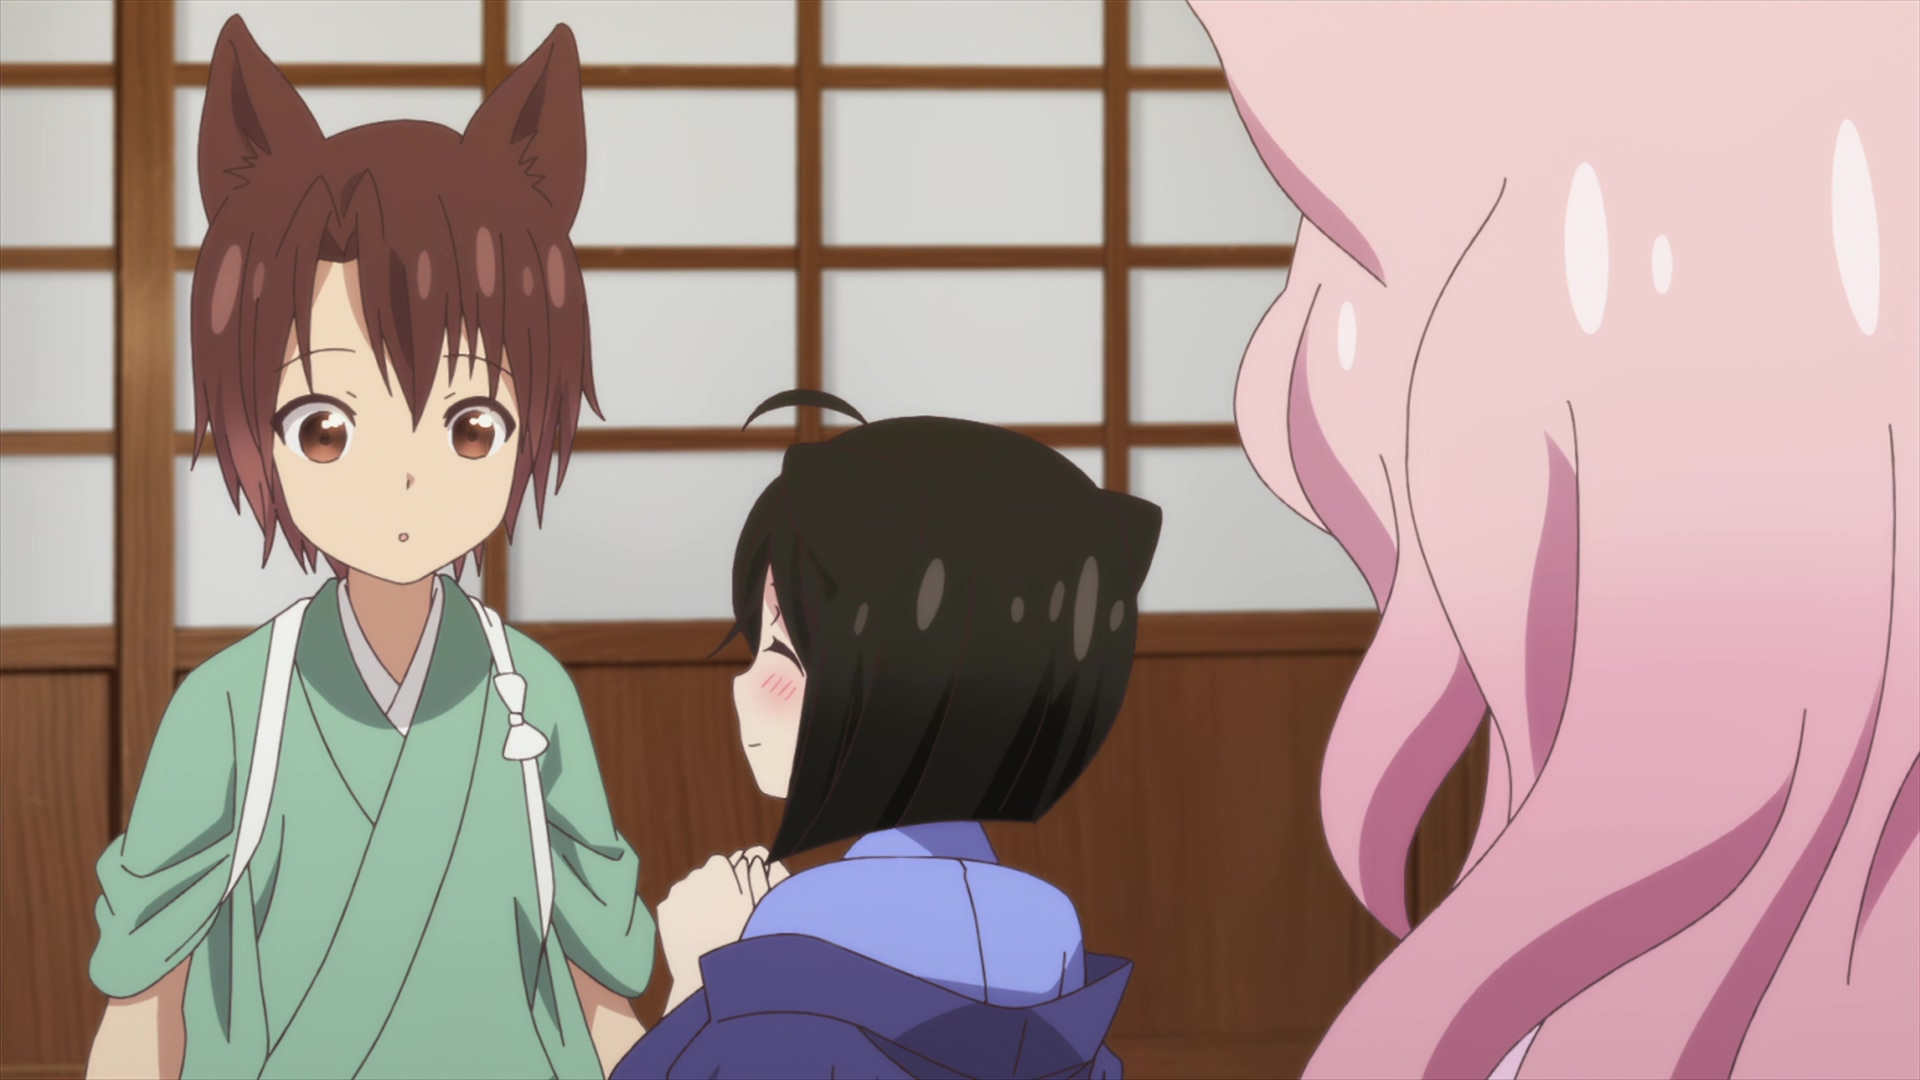其他: (615, 386, 1162, 1080)
枣: (84, 13, 654, 1080)
莲: (1182, 1, 1920, 1080)
